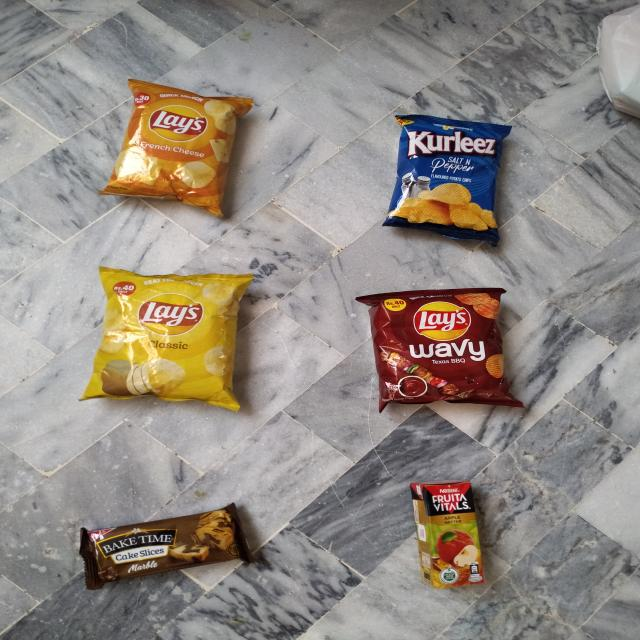Plastic: (86, 268, 246, 409), (367, 290, 514, 403), (119, 82, 239, 206), (79, 507, 256, 587), (392, 112, 506, 235), (414, 483, 486, 589)
